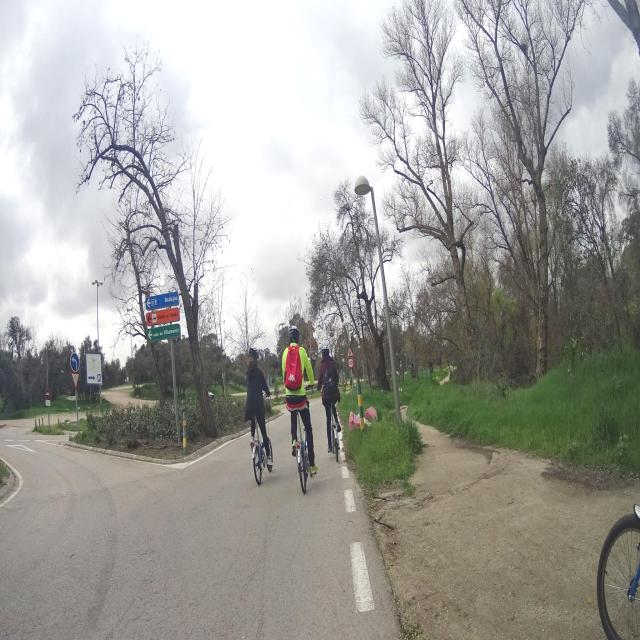bike: (288, 380, 317, 495), (248, 390, 274, 485)
